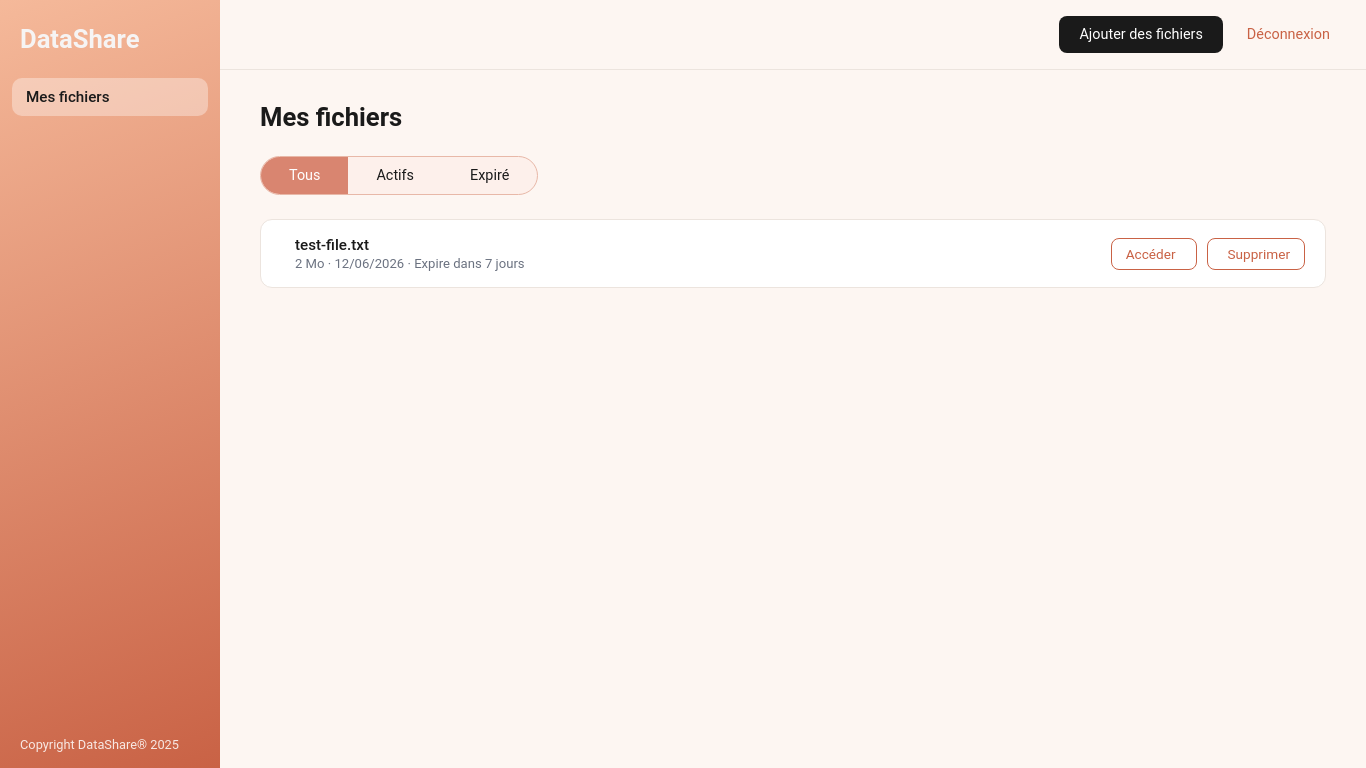
Test: Upload and download file › Delete a file from space
// WHEN twice is for confirmation
Click the button with class "btn-delete" at (1257, 254), box [1207,238,1306,270]
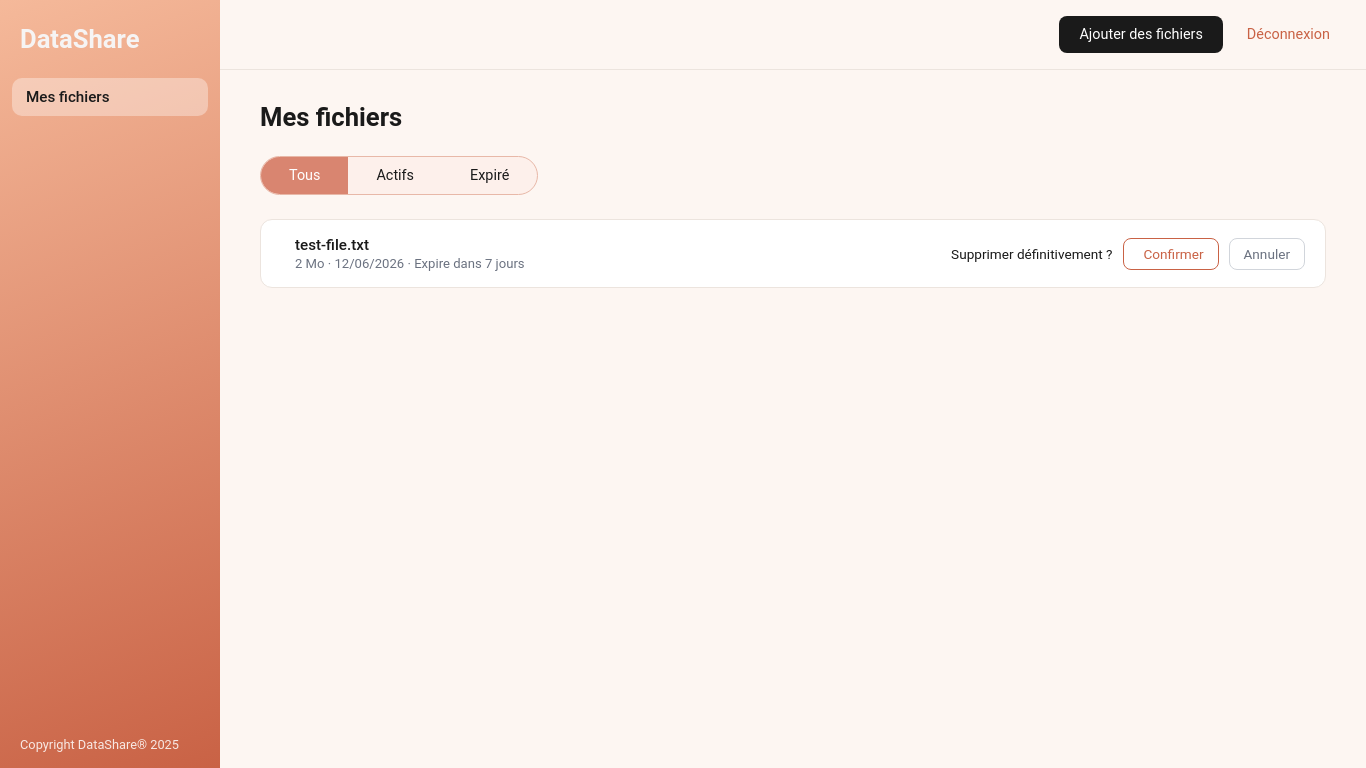
Click the button with class "btn-delete" at (1171, 254), box [1123,238,1219,270]
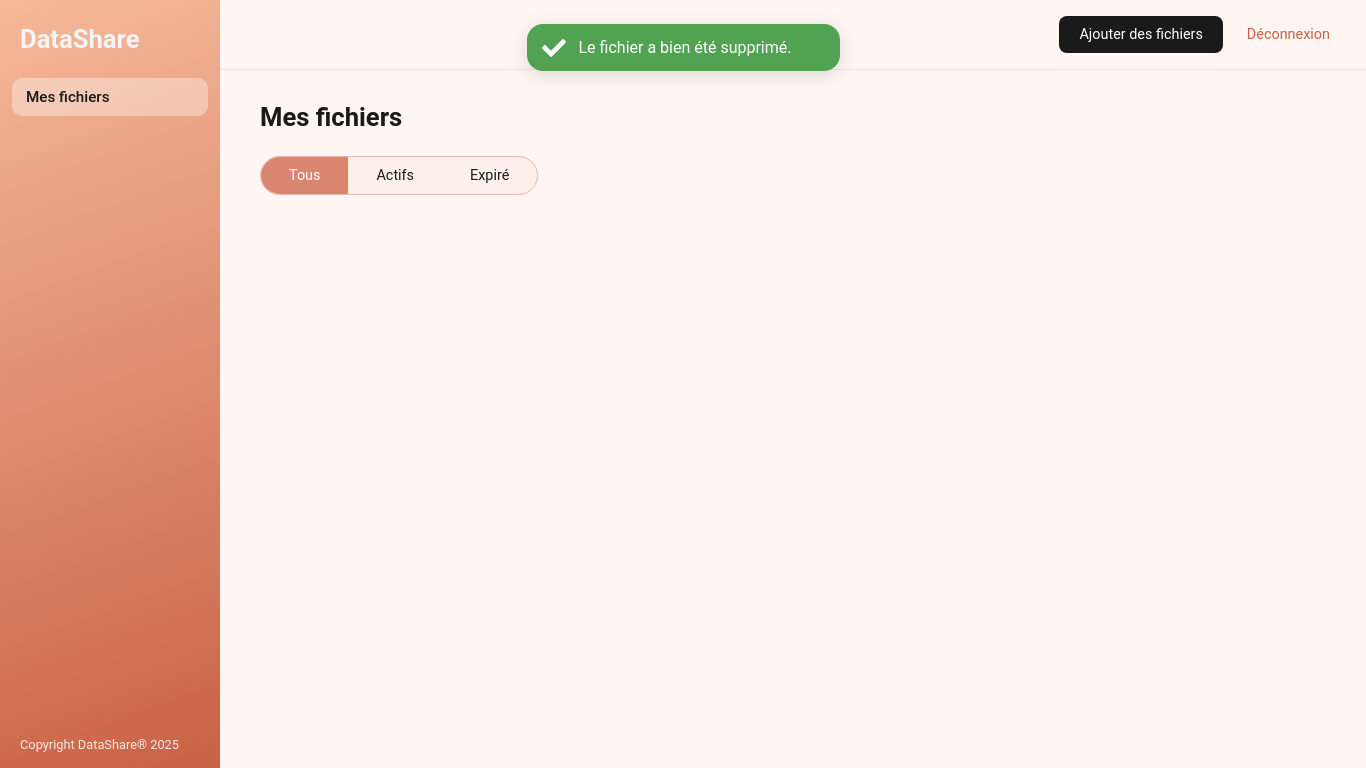
Now the text with class "file-name" is gone
